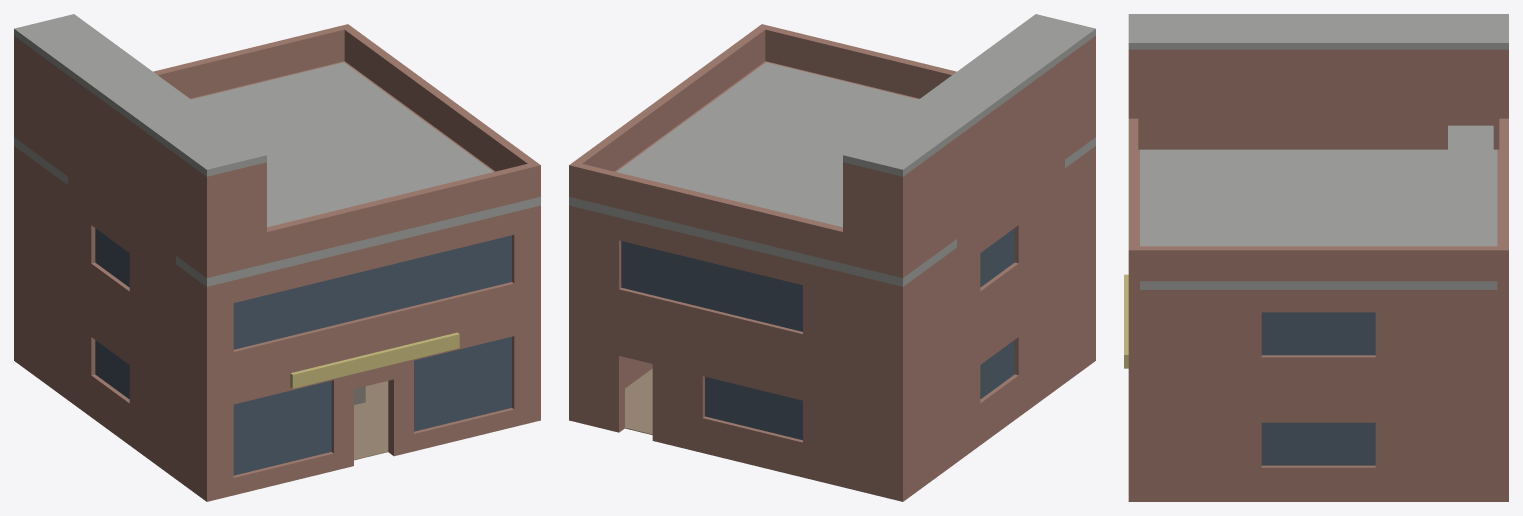
Rendered from townhouse.walls-v1.lod0.glb.
3 views of the same model, side by side, from view 1: azimuth 30°, elevation 25°; view 2: azimuth 150°, elevation 25°; view 3: azimuth 270°, elevation 25° (orthographic).
Parts seen in each view (by area): view 1: townhouse; view 2: townhouse; view 3: townhouse.
Boxes of the visible parts, x1=… form: townhouse: x1=14, y1=14, x2=540, y2=501; townhouse: x1=569, y1=14, x2=1095, y2=501; townhouse: x1=1124, y1=14, x2=1508, y2=501.
Bounding box in the file's own units: 10 × 9.5 × 10.12.
